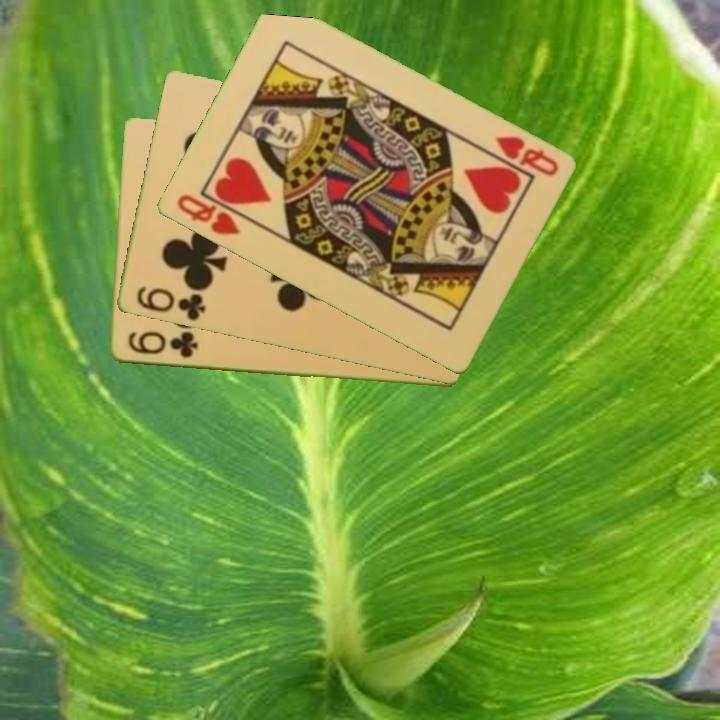6c: (132, 282, 208, 324), (124, 328, 200, 362)
Qh: (173, 191, 243, 239), (491, 132, 561, 180)
